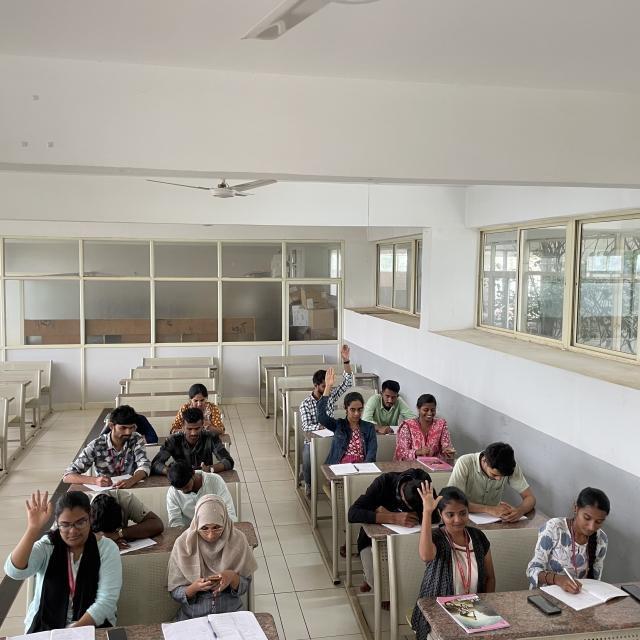Hand Rising: (5, 485, 120, 627), (414, 478, 493, 592), (317, 364, 379, 458), (297, 340, 356, 426)
Reading: (455, 441, 537, 524), (165, 381, 230, 438), (369, 377, 414, 434)
Sleeping: (89, 483, 164, 544)
Using Phone: (162, 498, 255, 616), (153, 406, 232, 486)
Writing: (526, 486, 630, 612), (65, 407, 151, 492), (358, 464, 438, 531)
